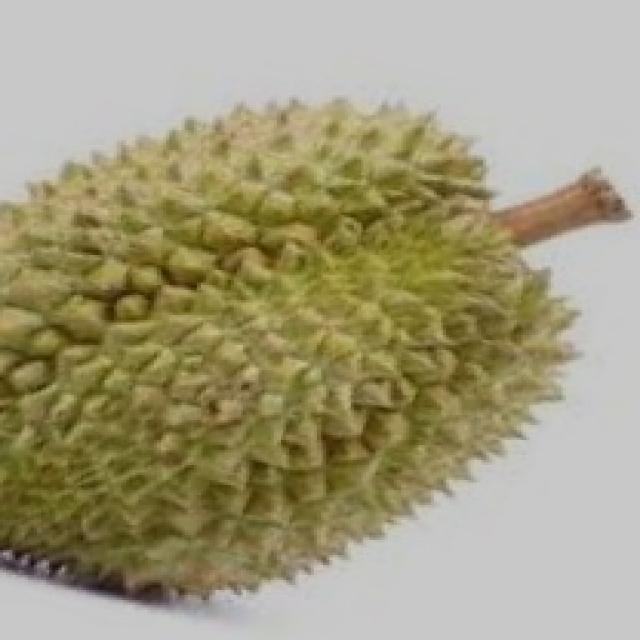fruit: (234, 190, 634, 622), (3, 265, 382, 640)
